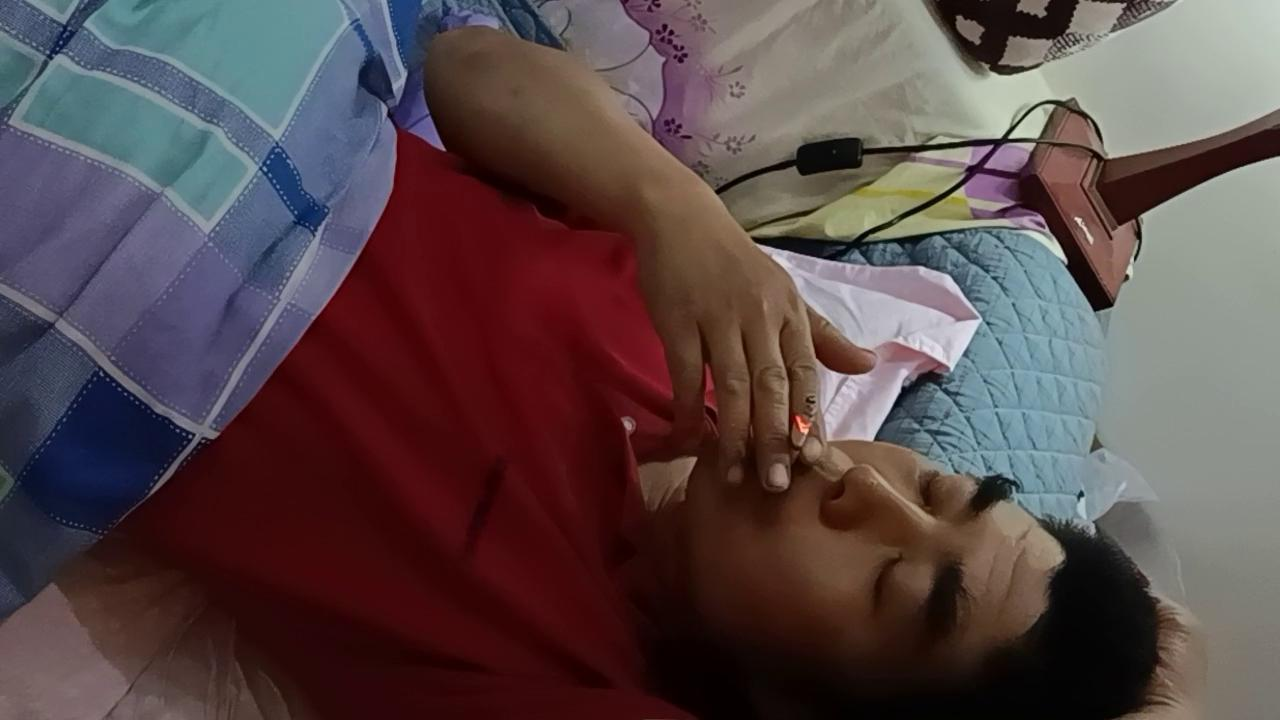smoke: (782, 394, 817, 477)
